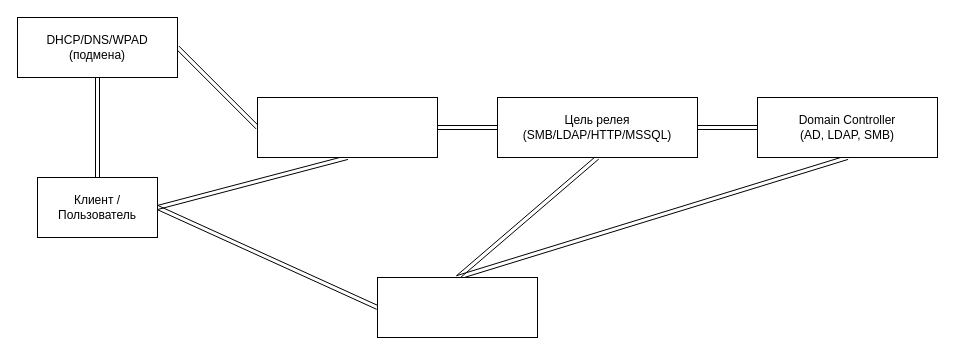
This 955x355 diagram has some shape labels left out. Each missing label, with the box of its shape:
SIEM / Мониторинг: (376, 276, 538, 338)
Сервер атакующего (Responder / Impacket): (256, 96, 438, 158)
